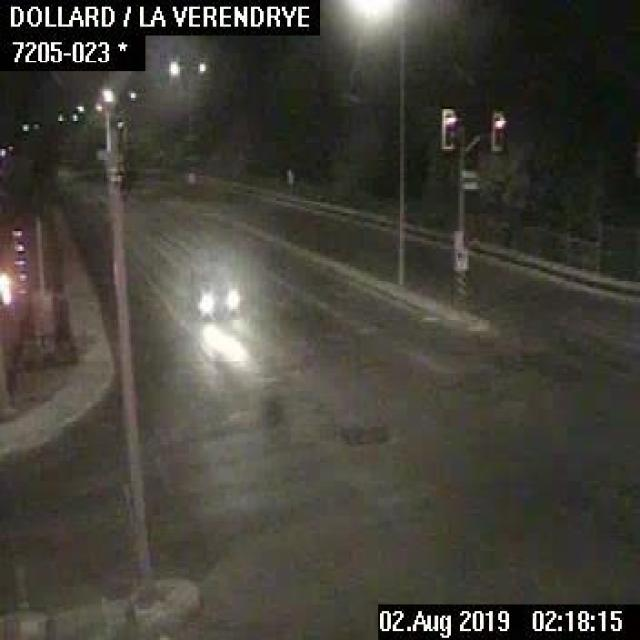vehicle: (187, 267, 237, 320)
